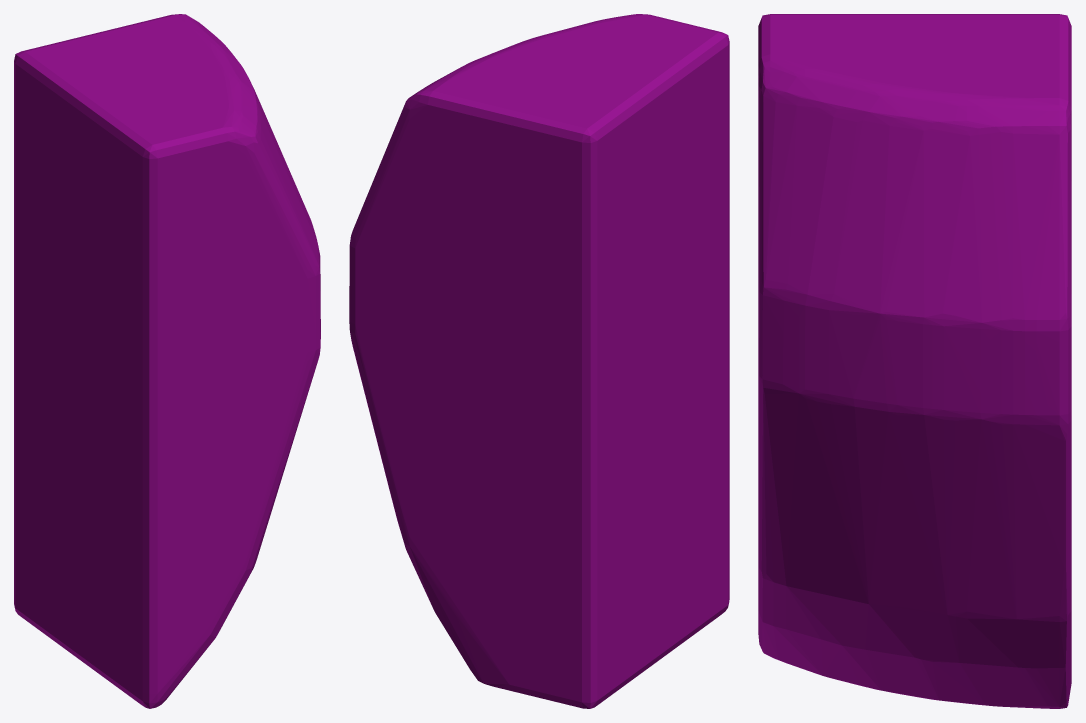
The model's file is left_hip_roll_link_part_14.obj.
3 views of the same model, side by side, from view 1: azimuth 30°, elevation 25°; view 2: azimuth 150°, elevation 25°; view 3: azimuth 270°, elevation 25° (orthographic). The views are drawn at different scales.
Bounding box in the file's own units: 0.0335 × 0.0752 × 0.0334.
